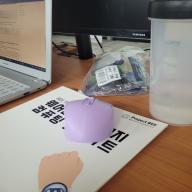mouse: (59, 96, 115, 145)
